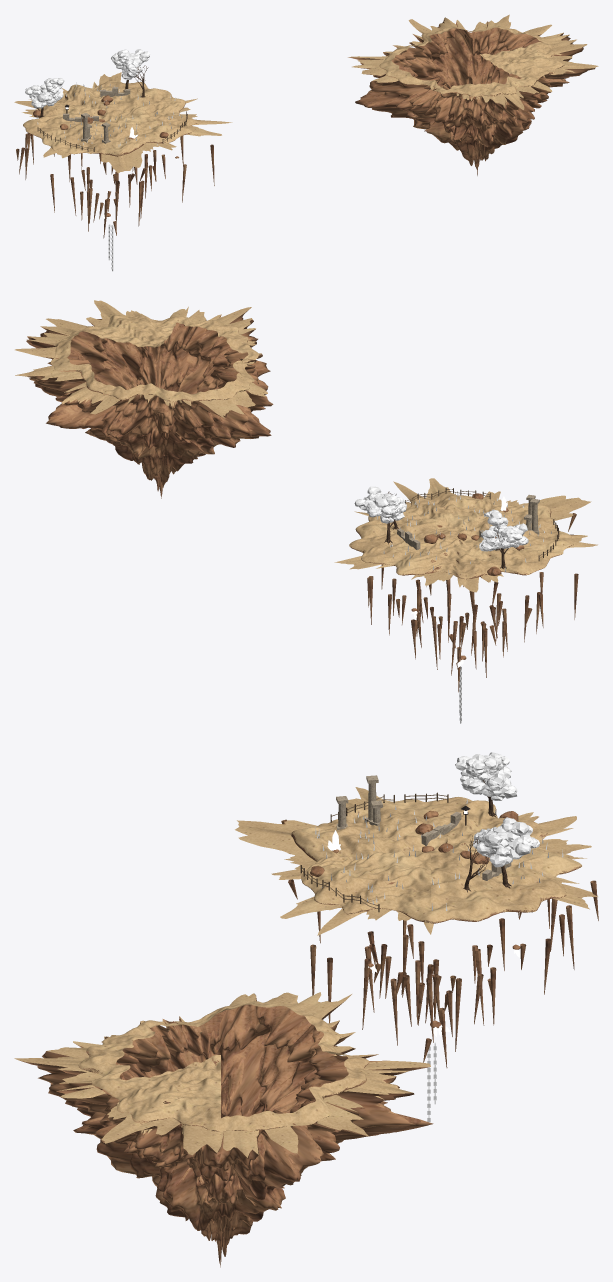
The model's file is map_islands_03.glb.
3 renders of one model, top to bottom at view 1: azimuth 30°, elevation 25°; view 2: azimuth 150°, elevation 25°; view 3: azimuth 270°, elevation 25°, orthographic. The views are drawn at different scales.
Visible parts, largest first — view 1: Isl01_under__cliff_00, Isl02_top__sand_00, Isl01_top__sand_01, Isl02_props__cliff, Isl02_top__sand_01, Isl02_top__sand_02, Isl01_top__sand_02, Isl01_under__cliff_01, Isl01_under__sand, Isl02_props__leaf_00, Isl01_under__cliff_02, Isl02_props__leaf_01 (+1 smaller); view 2: Isl01_under__cliff_00, Isl01_under__cliff_01, Isl02_top__sand_00, Isl02_top__sand_01, Isl01_top__sand_01, Isl02_props__cliff, Isl01_top__sand_02, Isl02_top__sand_02, Isl01_under__sand, Isl02_props__leaf_00, Isl02_props__leaf_01, Isl02_props__stone; view 3: Isl01_under__cliff_00, Isl02_top__sand_00, Isl01_top__sand_01, Isl02_top__sand_01, Isl02_props__cliff, Isl01_under__cliff_01, Isl02_top__sand_02, Isl01_top__sand_02, Isl01_under__cliff_02, Isl01_under__sand, Isl02_props__leaf_00, Isl02_props__stone (+3 smaller).
Part boxes in pixels (x1,y1,x2,y2): Isl01_under__cliff_00: (348,19,595,142); Isl02_top__sand_00: (34,83,176,148); Isl01_top__sand_01: (381,19,551,95); Isl02_props__cliff: (16,95,214,238); Isl02_top__sand_01: (14,72,184,161); Isl02_top__sand_02: (15,72,232,173); Isl01_top__sand_02: (349,20,598,109); Isl01_under__cliff_01: (413,33,584,166); Isl01_under__sand: (352,14,574,107); Isl02_props__leaf_00: (35,49,182,147); Isl01_under__cliff_02: (464,92,531,175); Isl02_props__leaf_01: (25,78,64,108); Isl01_under__cliff_00: (25,308,273,448); Isl01_under__cliff_01: (26,327,229,491); Isl02_top__sand_00: (366,500,559,570); Isl02_top__sand_01: (337,494,572,592); Isl01_top__sand_01: (50,317,254,414); Isl02_props__cliff: (367,493,578,692); Isl01_top__sand_02: (40,300,261,418); Isl02_top__sand_02: (334,478,597,591); Isl01_under__sand: (15,309,267,415); Isl02_props__leaf_00: (354,486,551,574); Isl02_props__leaf_01: (484,509,528,548); Isl02_props__stone: (397,494,539,550); Isl01_under__cliff_00: (20,993,433,1188); Isl02_top__sand_00: (328,801,562,911); Isl01_top__sand_01: (98,1001,430,1129); Isl02_top__sand_01: (289,797,591,921); Isl02_props__cliff: (281,810,598,1067); Isl01_under__cliff_01: (56,1092,308,1256); Isl02_top__sand_02: (235,787,597,935); Isl01_top__sand_02: (14,994,388,1155); Isl01_under__cliff_02: (117,1165,281,1267); Isl01_under__sand: (58,992,412,1157); Isl02_props__leaf_00: (315,769,563,910); Isl02_props__stone: (336,775,511,880).
Bounding box in the file's own units: 287 × 107 × 171.
Materials: 9 (6 with a texture image).
